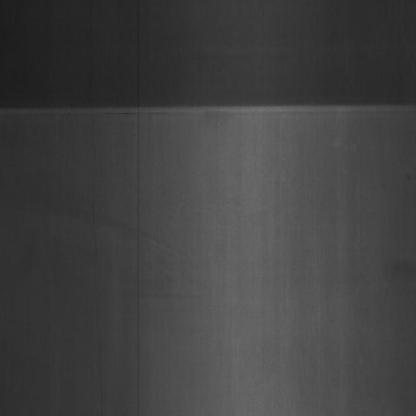welding_line: (3, 93, 416, 126)
